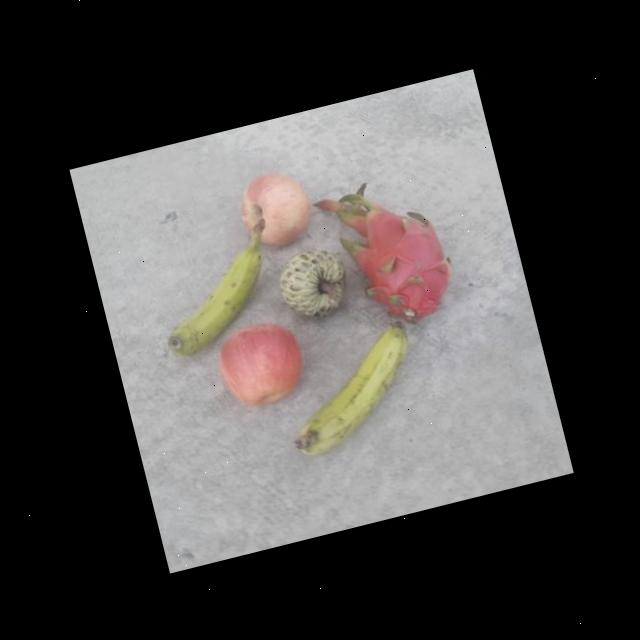Sakya fruit: (272, 240, 354, 322)
apple: (208, 314, 312, 414), (230, 162, 319, 253)
banana: (271, 316, 430, 456), (140, 216, 292, 360)
pitaya: (340, 184, 465, 334)
